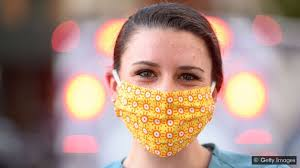FaceMask: (113, 81, 215, 157)
